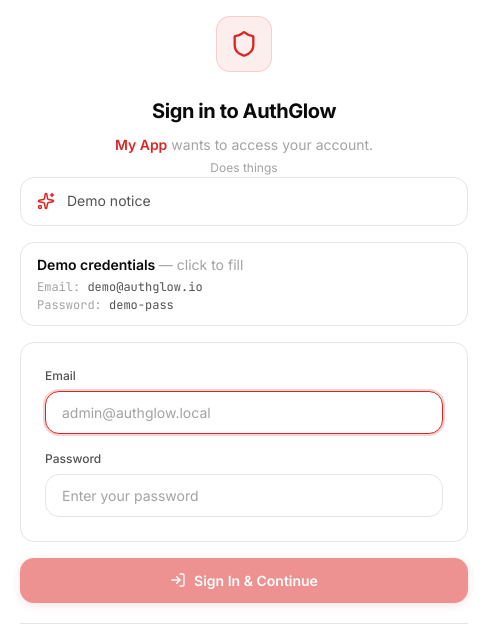
OAuthAuthorizePage — demo mode › shows the demo credentials and fills them on click and keyboard
The image size is (489, 641).
expect the heading "Sign in to AuthGlow" is shown: met, box [152,99,336,123]
expect the text "Demo notice" is shown: met, box [67,192,151,209]
Click the button with test id "demo-credentials": point(98, 264) [20,242,468,326]
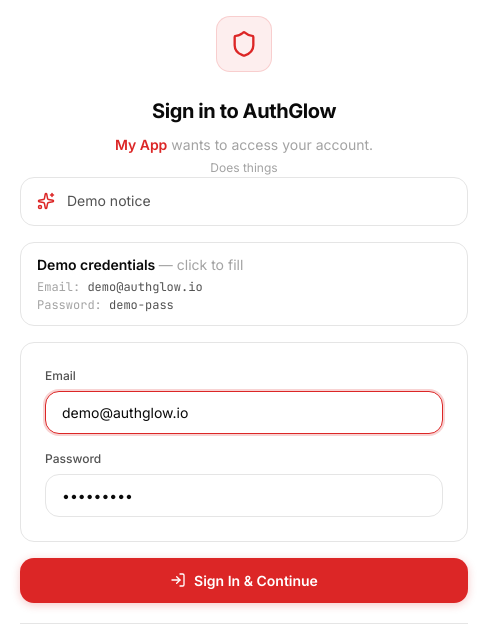
expect the field labelled "Email" holds "demo@authglow.io": met
expect the password field labelled "Password" holds "demo-pass": met, box [45,474,443,517]
Clear the field labelled "Email": point(244, 412) [45,391,443,434]
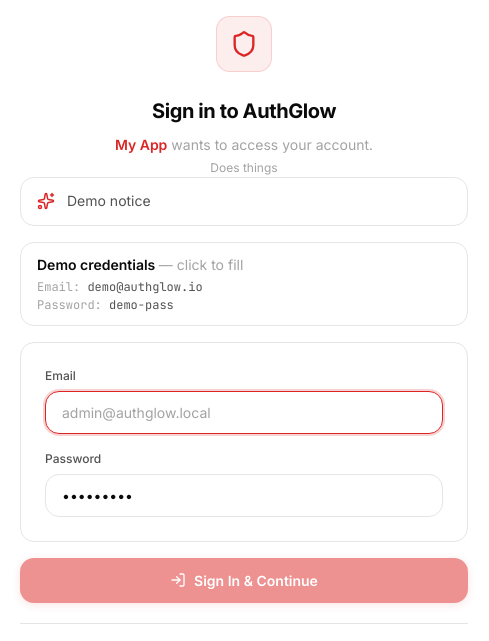
Press Enter in the button with test id "demo-credentials", box [20,242,468,326]
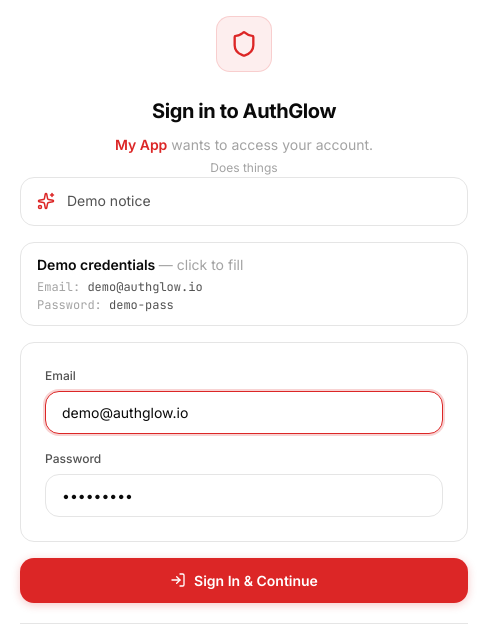
expect the field labelled "Email" holds "demo@authglow.io": met, box [45,391,443,434]
